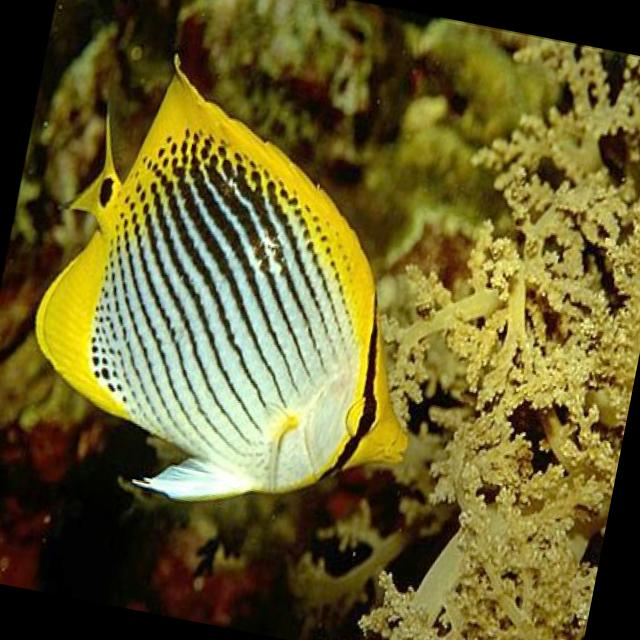ButterflyFish: (9, 42, 470, 547)
